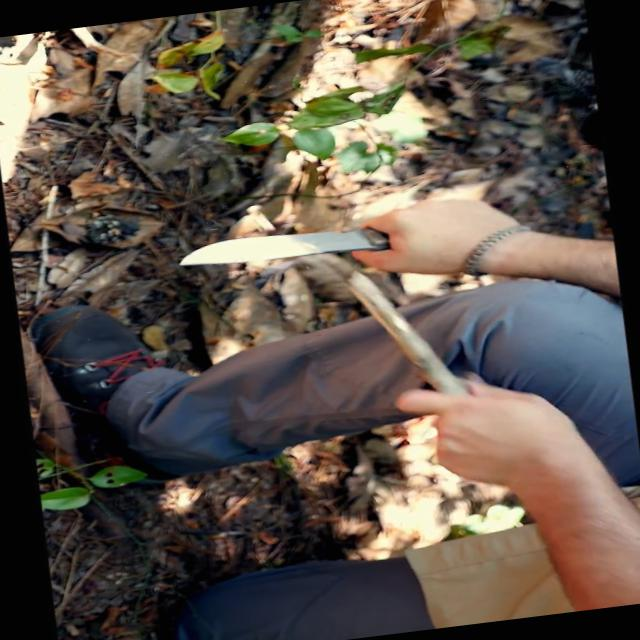knife: (166, 195, 449, 302)
